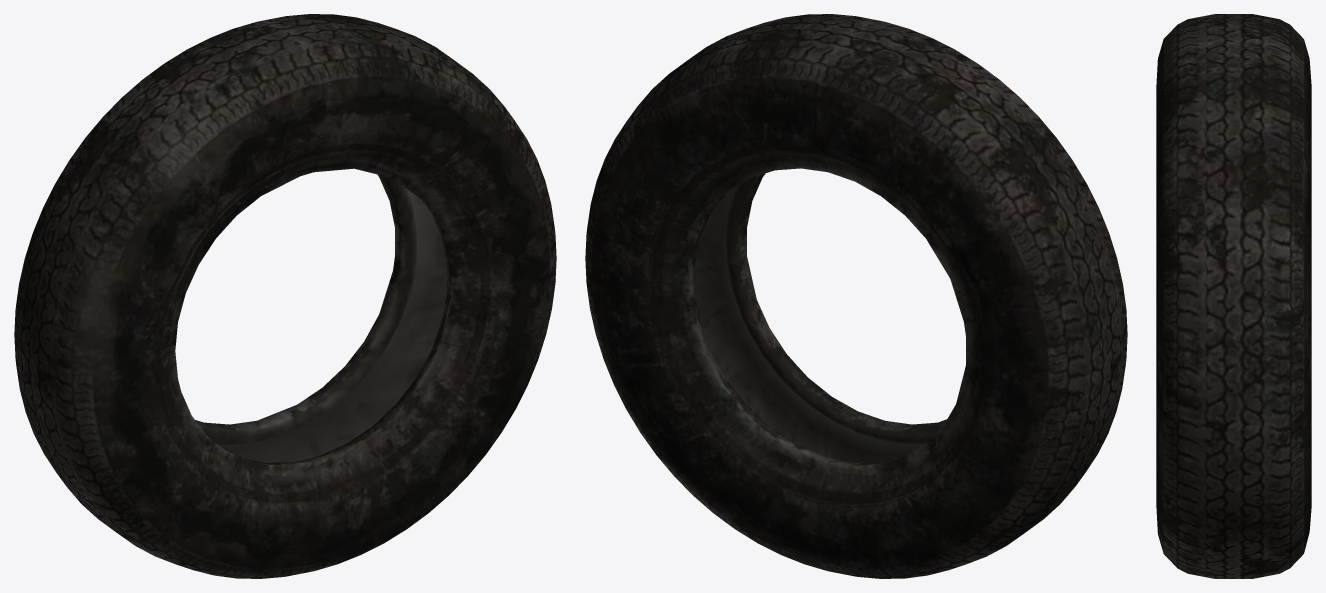
File: old_tyre.glb
The picture shows the model from 3 angles, left to right: view 1: azimuth 30°, elevation 25°; view 2: azimuth 150°, elevation 25°; view 3: azimuth 270°, elevation 25°; orthographic projection. The views are drawn at different scales.
Parts seen in each view (by area): view 1: old_tyre; view 2: old_tyre; view 3: old_tyre.
Part boxes in pixels (x1=…): old_tyre: x1=14, y1=14, x2=556, y2=578; old_tyre: x1=585, y1=14, x2=1127, y2=578; old_tyre: x1=1156, y1=14, x2=1311, y2=578.
Bounding box in the file's own units: 0.6 × 0.6 × 0.165.
Materials: 1 (1 with a texture image).
